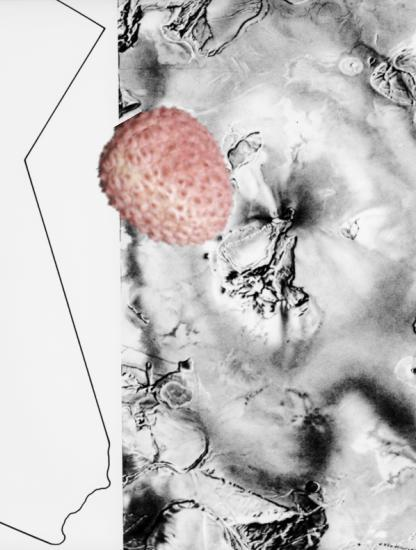Lychee: (94, 108, 243, 257)
